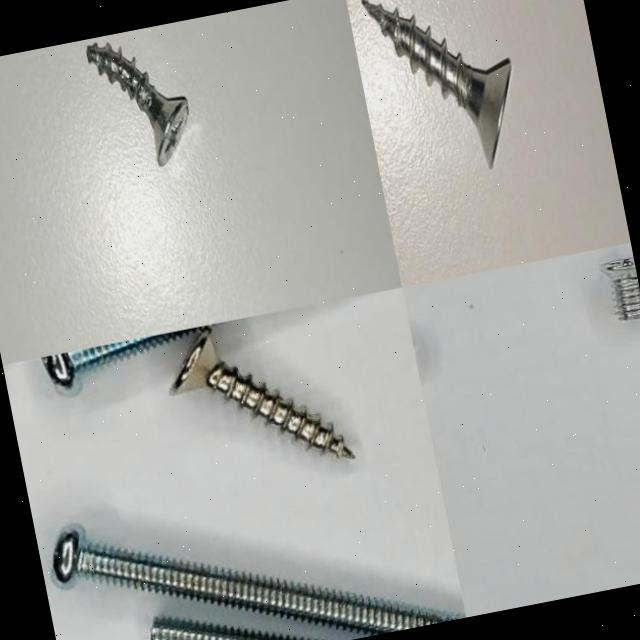Screw: (52, 531, 464, 636), (362, 0, 513, 169), (171, 327, 353, 458), (87, 44, 189, 167), (150, 622, 297, 640), (599, 257, 640, 320)
